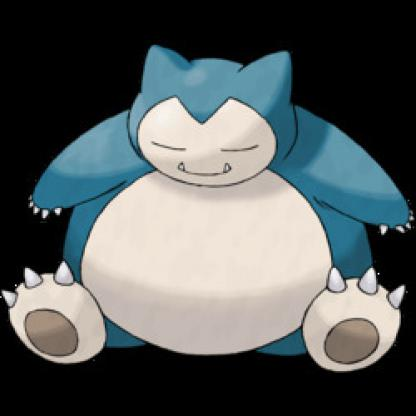Snorlax: (1, 27, 416, 393)
